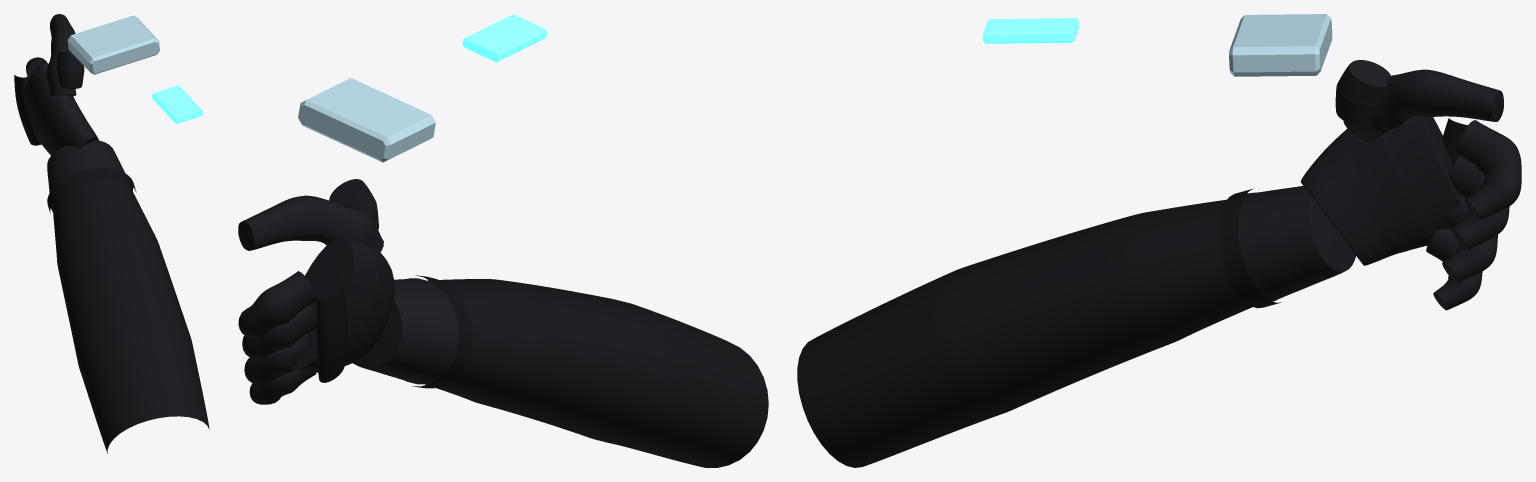
The model's file is hands_glacier_magin.glb.
The picture shows the model from 3 angles, left to right: view 1: azimuth 30°, elevation 25°; view 2: azimuth 150°, elevation 25°; view 3: azimuth 270°, elevation 25°; orthographic projection. The views are drawn at different scales.
Parts seen in each view (by area): view 1: hand_l_forearm, hand_l_palm, hand_l_cuff_plate, hand_l_cuff, hand_l_thumb, hand_l_lamp, hand_l_cuff_strap, hand_l_web, hand_l_knuckle_panel, hand_l_index; view 2: hand_l_forearm, hand_l_cuff, hand_l_palm, hand_l_cuff_plate, hand_l_thumb, hand_l_index, hand_l_knuckle_panel, hand_l_lamp, hand_l_middle, hand_l_cuff_strap, hand_l_ring, hand_l_little (+1 smaller); view 3: hand_l_forearm, hand_l_palm, hand_l_cuff, hand_l_cuff_plate, hand_l_thumb, hand_l_index, hand_l_web, hand_l_cuff_strap, hand_l_middle, hand_l_lamp, hand_l_ring, hand_l_little.
Part boxes in pixels (left/top/right/bottom): hand_l_forearm: left=52, top=179, right=209, bottom=453; hand_l_palm: left=24, top=63, right=98, bottom=155; hand_l_cuff_plate: left=67, top=15, right=159, bottom=74; hand_l_cuff: left=47, top=140, right=132, bottom=211; hand_l_thumb: left=46, top=14, right=76, bottom=96; hand_l_lamp: left=152, top=85, right=202, bottom=123; hand_l_cuff_strap: left=47, top=168, right=136, bottom=214; hand_l_web: left=56, top=52, right=84, bottom=88; hand_l_knuckle_panel: left=14, top=75, right=41, bottom=145; hand_l_index: left=26, top=57, right=47, bottom=78; hand_l_forearm: left=425, top=279, right=768, bottom=467; hand_l_cuff: left=352, top=278, right=458, bottom=384; hand_l_palm: left=292, top=238, right=394, bottom=372; hand_l_cuff_plate: left=298, top=78, right=435, bottom=162; hand_l_thumb: left=238, top=195, right=383, bottom=254; hand_l_index: left=238, top=271, right=316, bottom=337; hand_l_knuckle_panel: left=316, top=285, right=347, bottom=382; hand_l_lamp: left=462, top=14, right=547, bottom=62; hand_l_middle: left=242, top=305, right=316, bottom=359; hand_l_cuff_strap: left=412, top=275, right=472, bottom=388; hand_l_ring: left=244, top=334, right=307, bottom=384; hand_l_little: left=249, top=369, right=316, bottom=404; hand_l_forearm: left=797, top=199, right=1252, bottom=467; hand_l_palm: left=1300, top=117, right=1461, bottom=265; hand_l_cuff: left=1238, top=186, right=1355, bottom=301; hand_l_cuff_plate: left=1229, top=14, right=1332, bottom=76; hand_l_thumb: left=1343, top=69, right=1503, bottom=143; hand_l_index: left=1453, top=120, right=1521, bottom=220; hand_l_web: left=1335, top=60, right=1390, bottom=125; hand_l_cuff_strap: left=1218, top=188, right=1281, bottom=308; hand_l_middle: left=1448, top=156, right=1509, bottom=250; hand_l_lamp: left=983, top=18, right=1078, bottom=43; hand_l_ring: left=1442, top=195, right=1497, bottom=282; hand_l_little: left=1426, top=229, right=1482, bottom=310.
Size of the model in its own units: 0.1398 by 0.2456 by 0.318.
